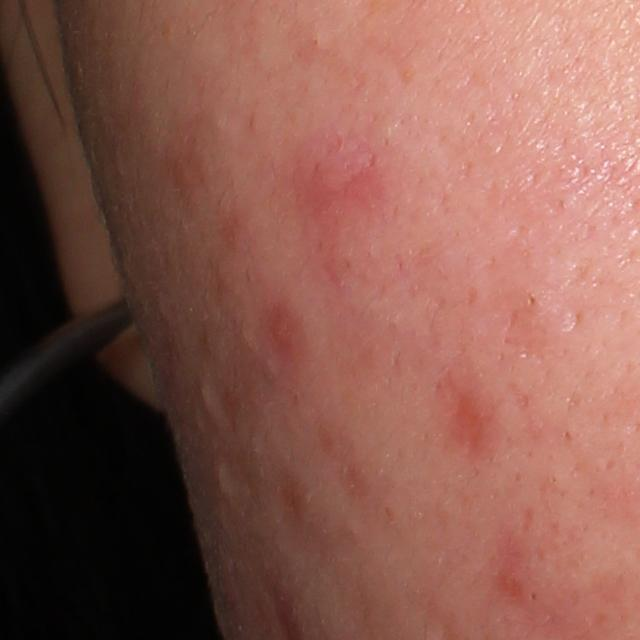comedo: (514, 287, 546, 314), (195, 384, 215, 414)
papule: (287, 125, 387, 238)
